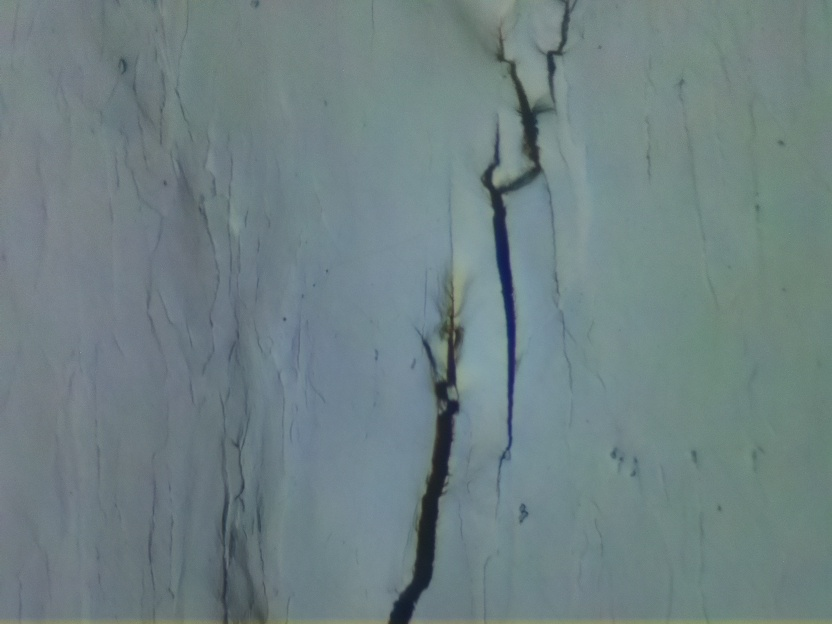crack: (480, 0, 576, 517), (387, 284, 464, 624)
